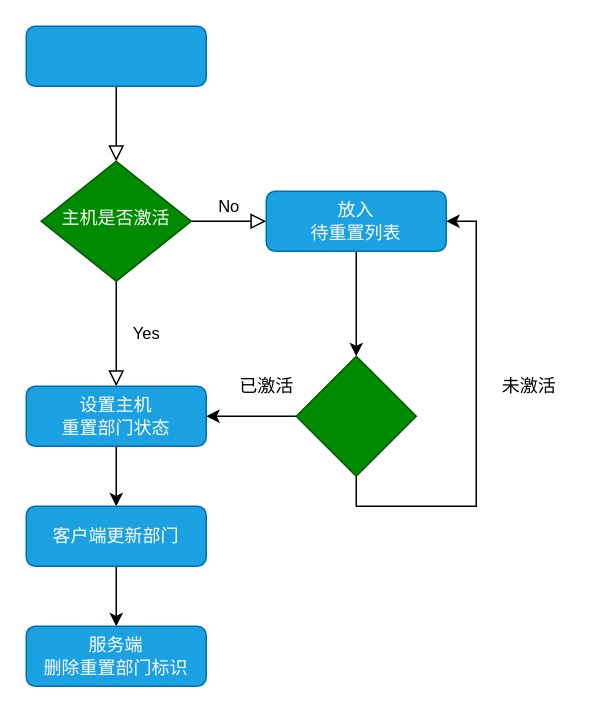
This 593x713 diagram has some shape labels left out. Here are the shapes that lost their labels. From the top down, the centre of each, then its label:
[115,55]: 重置部门
[355,415]: 定时查询 是否激活
